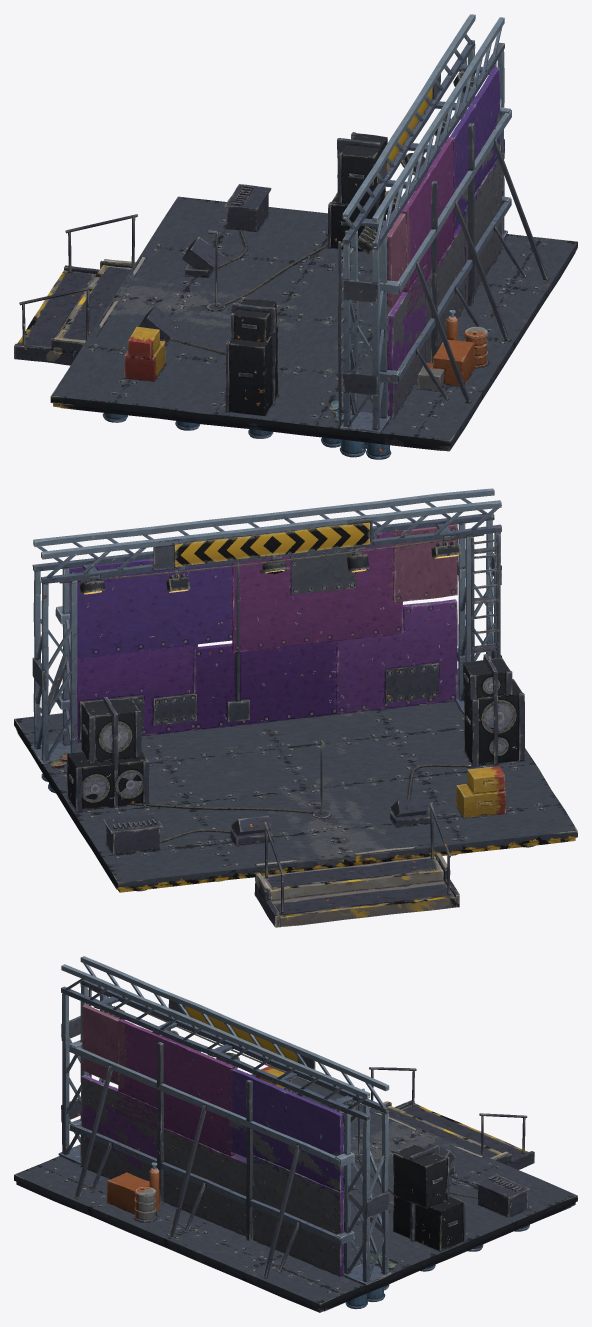
3 views of the same model, one above another, from view 1: azimuth 30°, elevation 25°; view 2: azimuth 150°, elevation 25°; view 3: azimuth 270°, elevation 25° (orthographic). The views are drawn at different scales.
Visible parts, largest first — view 1: Platform, Fittings, Backdrop, Truss, TrussTop, Speakers, Supplies, Steps, PlatformDrums, LampHousings, Cables; view 2: Platform, Backdrop, Fittings, TrussTop, Truss, Speakers, Steps, Banner, Supplies, Cables, SpeakerCones, LampHousings (+1 smaller); view 3: Backdrop, Platform, Fittings, Truss, TrussTop, Speakers, Supplies, Steps, Banner, PlatformDrums, Cables.
Part boxes in pixels (left/top/right/bottom): Platform: left=50, top=196, right=577, bottom=451; Fittings: left=14, top=74, right=548, bottom=426; Backdrop: left=387, top=67, right=502, bottom=418; Truss: left=340, top=46, right=511, bottom=433; TrussTop: left=342, top=14, right=504, bottom=249; Speakers: left=228, top=133, right=387, bottom=415; Supplies: left=124, top=310, right=488, bottom=421; Steps: left=14, top=257, right=145, bottom=361; PlatformDrums: left=102, top=413, right=391, bottom=459; LampHousings: left=358, top=71, right=475, bottom=254; Cables: left=171, top=230, right=327, bottom=354; Platform: left=14, top=668, right=577, bottom=892; Backdrop: left=69, top=524, right=457, bottom=742; Fittings: left=32, top=519, right=524, bottom=926; TrussTop: left=32, top=488, right=501, bottom=583; Truss: left=30, top=520, right=500, bottom=763; Speakers: left=67, top=658, right=522, bottom=810; Steps: left=255, top=846, right=459, bottom=927; Banner: left=174, top=522, right=370, bottom=566; Supplies: left=50, top=716, right=505, bottom=817; Cables: left=59, top=534, right=483, bottom=842; SpeakerCones: left=83, top=679, right=512, bottom=799; LampHousings: left=79, top=541, right=461, bottom=593; Backdrop: left=81, top=1004, right=344, bottom=1276; Platform: left=14, top=1074, right=577, bottom=1312; Fittings: left=61, top=988, right=534, bottom=1277; Truss: left=58, top=984, right=391, bottom=1285; TrussTop: left=61, top=956, right=389, bottom=1121; Speakers: left=185, top=1045, right=463, bottom=1250; Supplies: left=107, top=1066, right=394, bottom=1269; Steps: left=373, top=1101, right=534, bottom=1166; Banner: left=185, top=1006, right=297, bottom=1062; PlatformDrums: left=345, top=1224, right=529, bottom=1309; Cables: left=120, top=1001, right=477, bottom=1198.
Size of the model in its own units: 33.96 by 14.47 by 33.95.
Materials: 16 (16 with a texture image).
